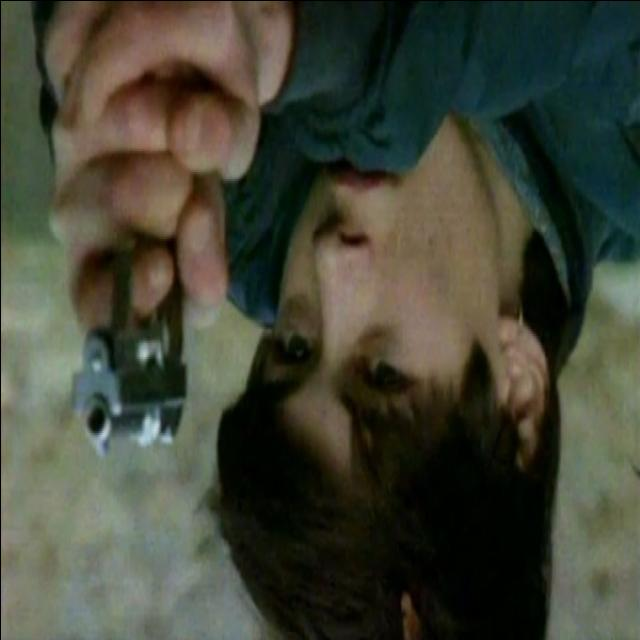weapons: (49, 150, 213, 503)
